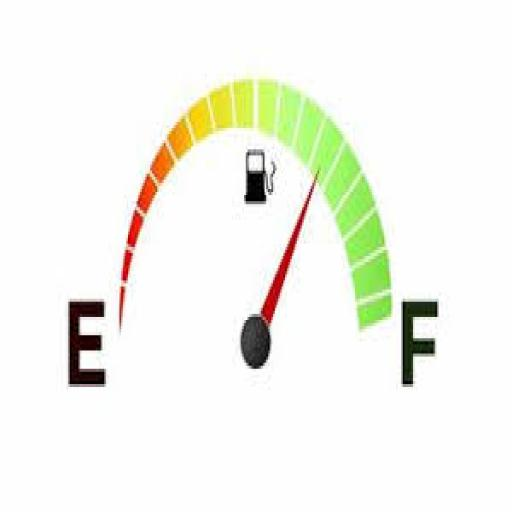empty: (62, 292, 107, 395)
fuel_icon: (238, 142, 278, 211)
full: (398, 292, 449, 401)
guage_area: (35, 56, 461, 452)
needle_center: (232, 286, 280, 386)
needle_tip: (308, 165, 329, 204)
